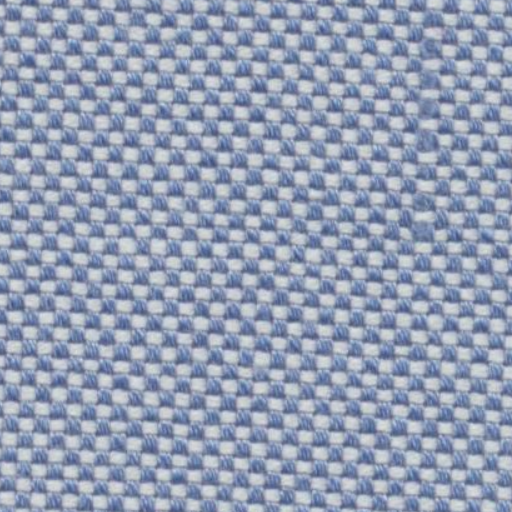TuoSha: (396, 16, 460, 282)
